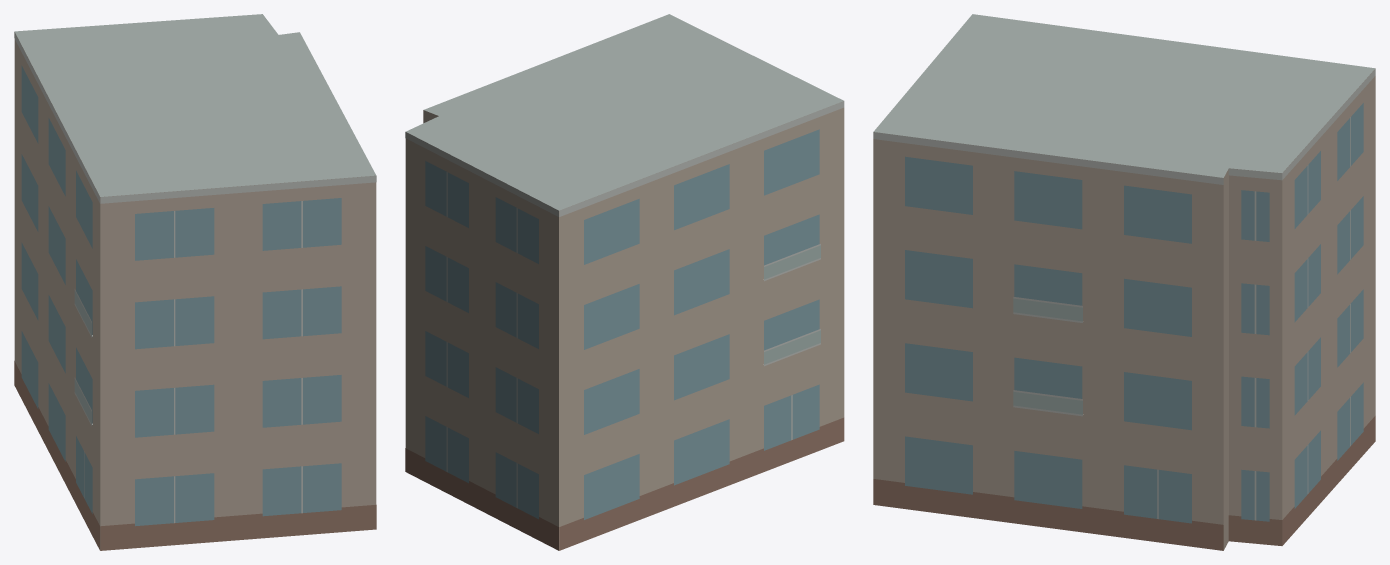
Rendered from survey-upis-32657841.glb.
3 views of the same model, side by side, from view 1: azimuth 30°, elevation 25°; view 2: azimuth 150°, elevation 25°; view 3: azimuth 270°, elevation 25° (orthographic). The views are drawn at different scales.
Parts seen in each view (by area): view 1: survey-upis-32657841.tmp; view 2: survey-upis-32657841.tmp; view 3: survey-upis-32657841.tmp.
Boxes of the visible parts, x1,y1,x2,y2 form: survey-upis-32657841.tmp: [14, 14, 376, 550]; survey-upis-32657841.tmp: [405, 14, 844, 550]; survey-upis-32657841.tmp: [873, 14, 1375, 550].
Bounding box in the file's own units: 12.03 × 12.75 × 15.57.
